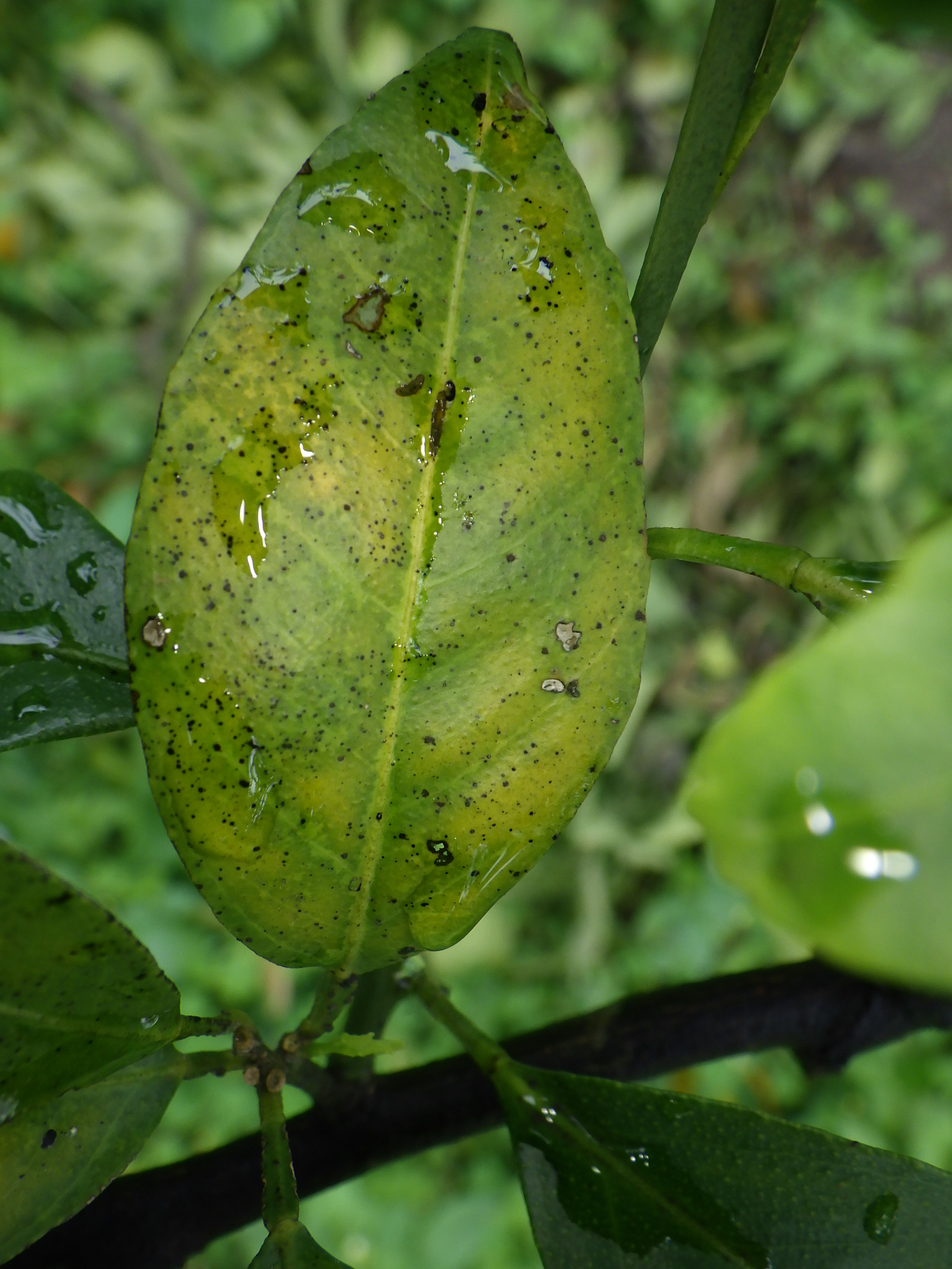Oily_Spot: (126, 29, 648, 977)
